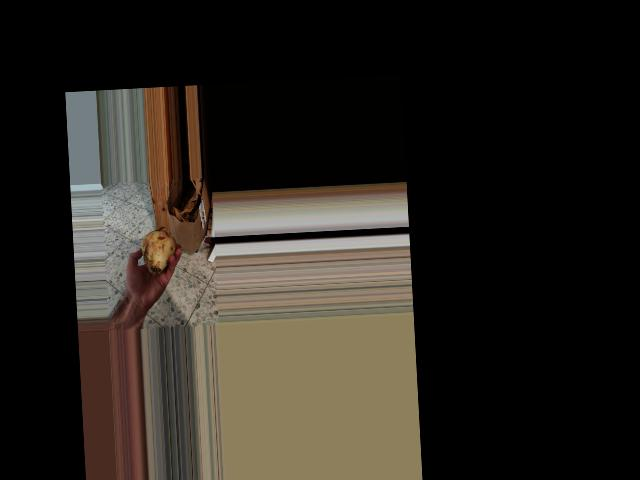onion: (137, 227, 179, 279)
